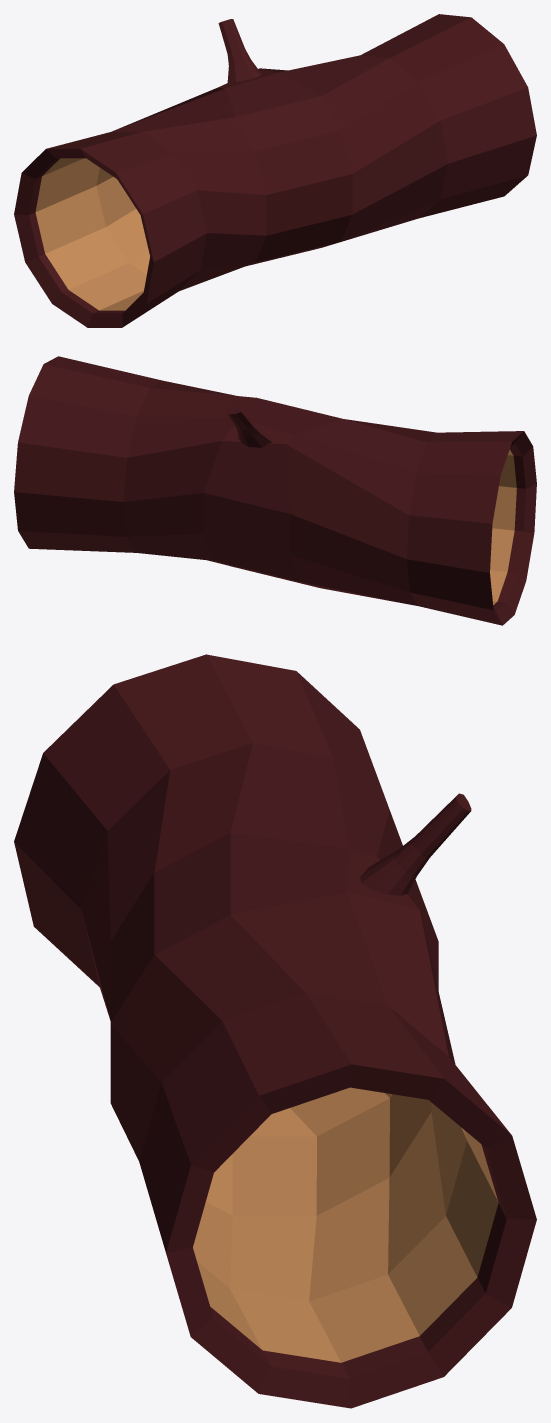
Rendered from Tee Trunk-shrinked.gltf.
3 views of the same model, one above another, from view 1: azimuth 30°, elevation 25°; view 2: azimuth 150°, elevation 25°; view 3: azimuth 270°, elevation 25° (orthographic). The views are drawn at different scales.
Visible parts, largest first — view 1: Cylinder, Cylinder.001; view 2: Cylinder, Cylinder.001; view 3: Cylinder, Cylinder.001.
Boxes of the visible parts, <box> form: Cylinder: <box>14,14,536,327</box>; Cylinder.001: <box>218,19,261,83</box>; Cylinder: <box>14,356,536,625</box>; Cylinder.001: <box>226,405,272,447</box>; Cylinder: <box>14,654,536,1408</box>; Cylinder.001: <box>360,793,471,895</box>.
Size of the model in its own units: 1.75 by 0.7375 by 0.8623.
